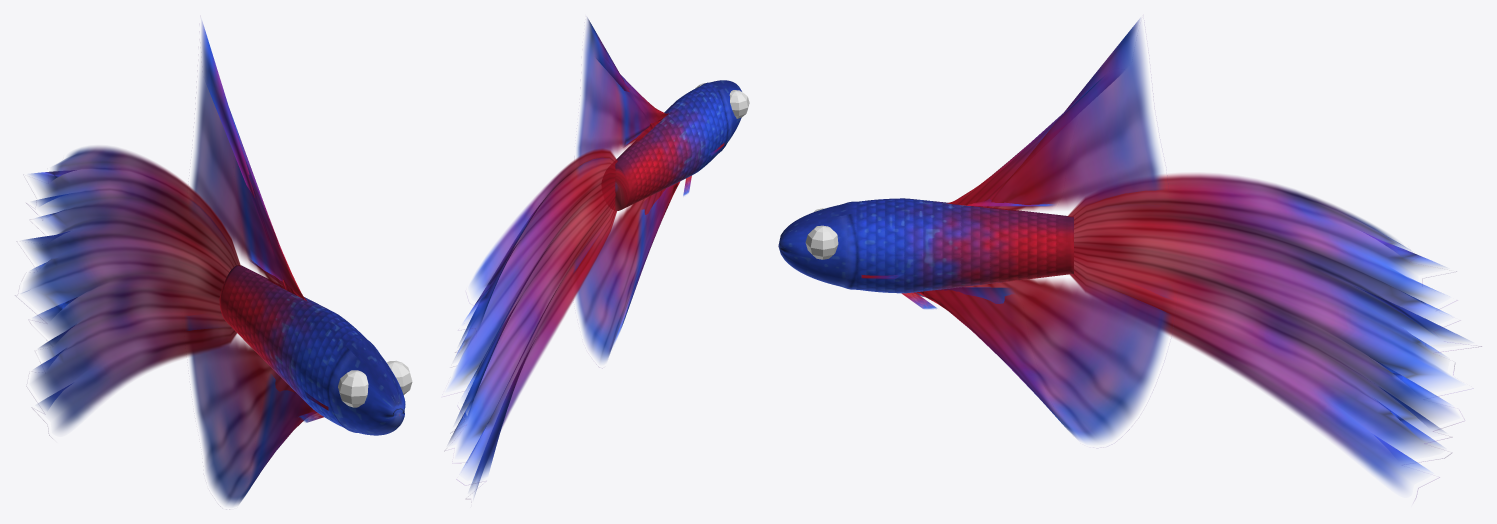
Rendered from betta.glb.
3 renders of one model, left to right at view 1: azimuth 30°, elevation 25°; view 2: azimuth 150°, elevation 25°; view 3: azimuth 270°, elevation 25°, orthographic. The views are drawn at different scales.
Parts seen in each view (by area): view 1: Fins, Body, EyeL, EyeR; view 2: Fins, Body, EyeL; view 3: Fins, Body, EyeR.
Part boxes in pixels (x1,y1,x2,y2): Fins: (15,22,323,505); Body: (219,265,405,435); EyeL: (338,370,368,407); EyeR: (387,360,412,394); Fins: (445,17,691,498); Body: (605,80,741,210); EyeL: (729,90,749,118); Fins: (901,19,1481,499); Body: (778,198,1073,293); EyeR: (805,225,838,259).
Bounding box in the file's own units: 0.1057 × 0.7703 × 0.997.
Materials: 2 (2 with a texture image).
